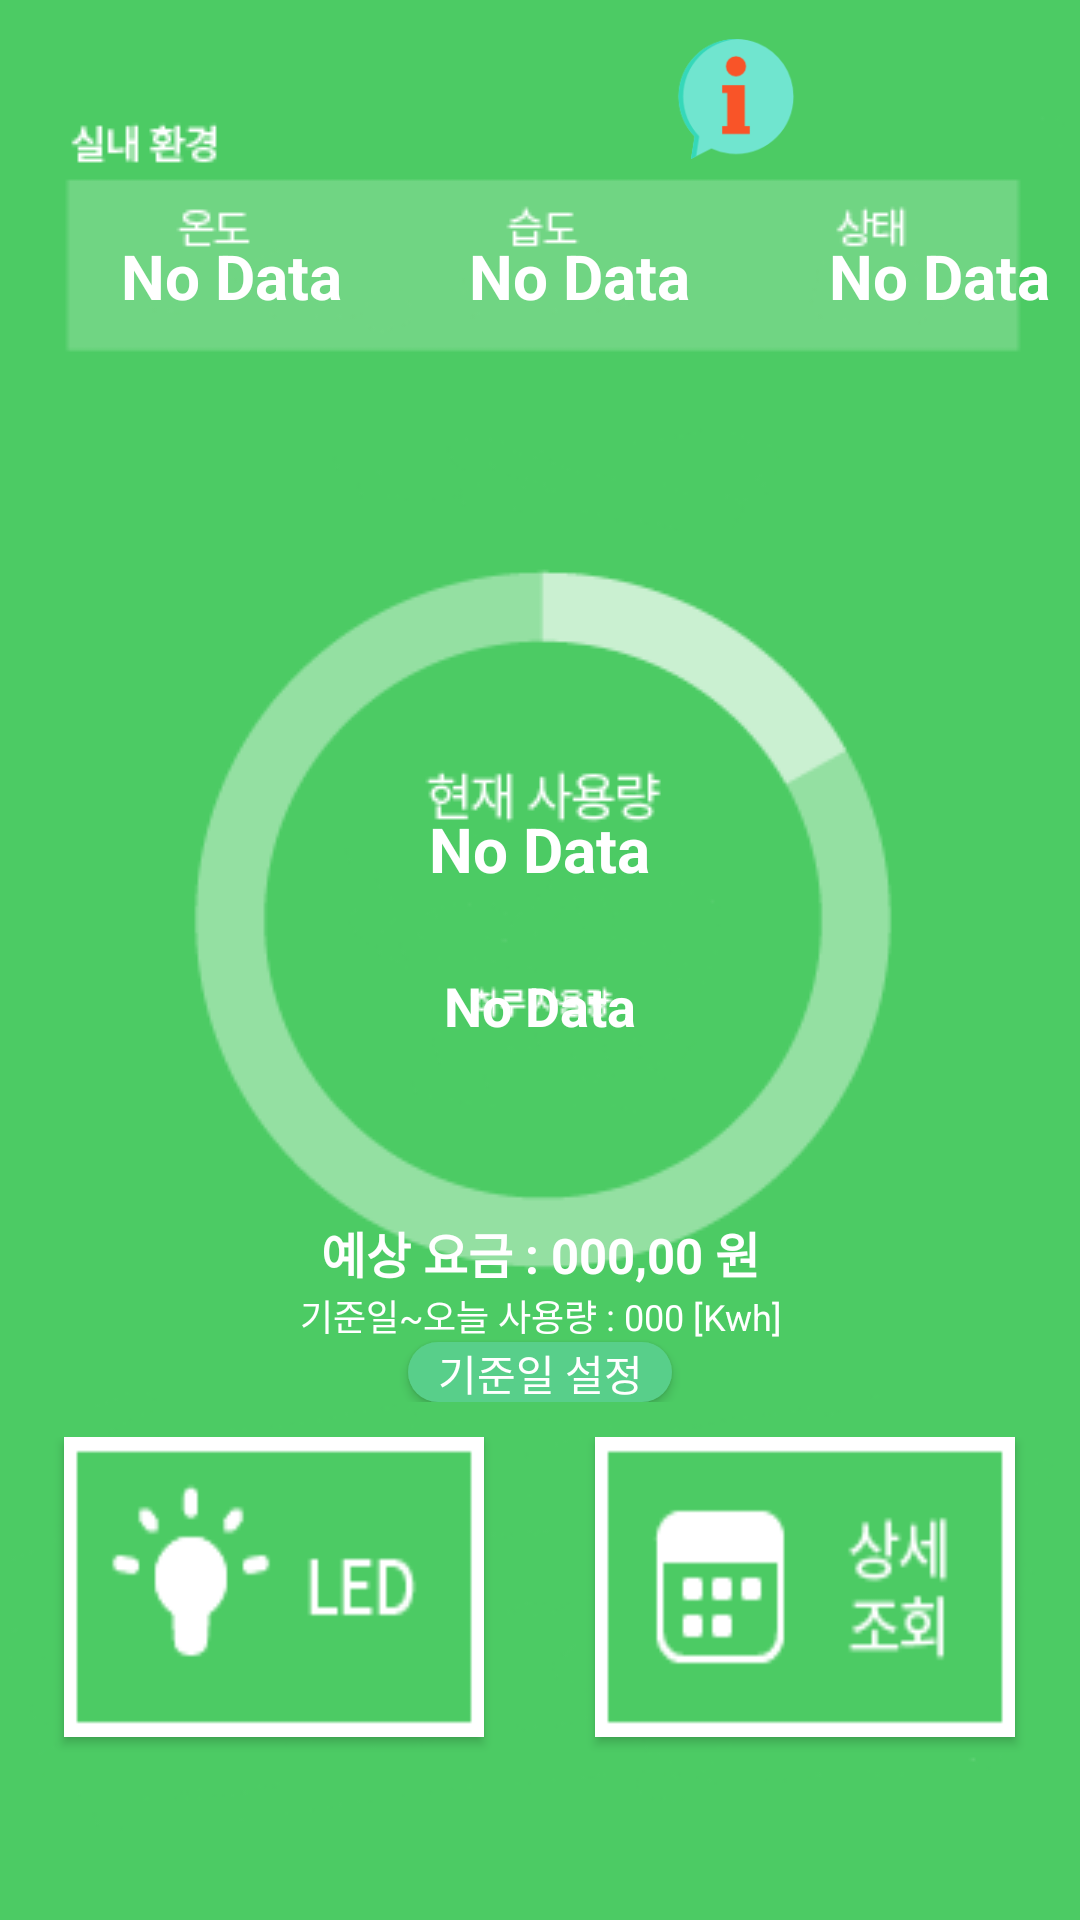

Screen size 1080px x 1920px. Icon name, then its box in pixels as box=[x1, y1, x2, y2]:
information: box=[678, 39, 794, 159]
